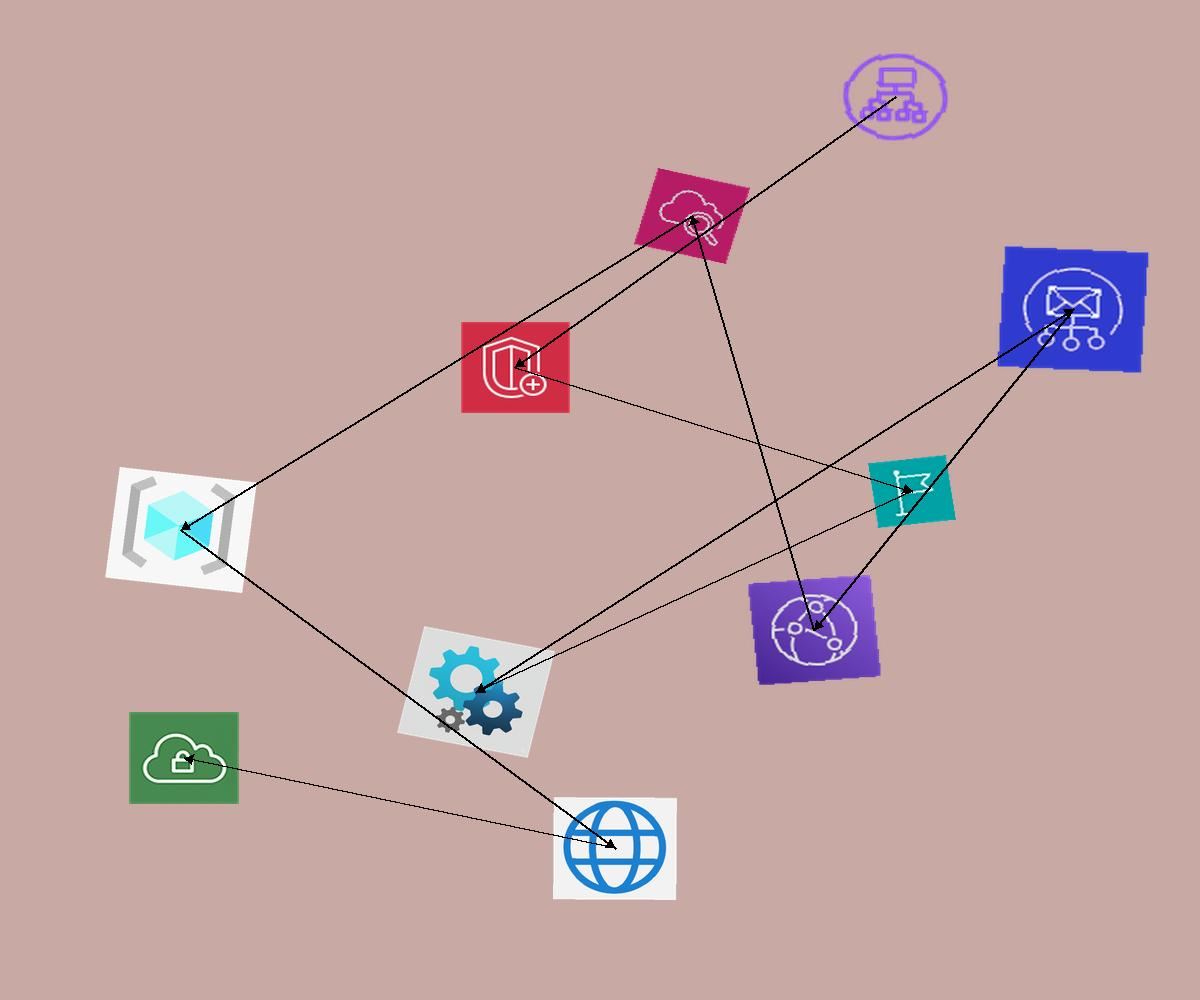AWS-CloudFront: (747, 574, 882, 686)
AWS-CloudWatch: (634, 168, 750, 264)
AWS-Private_vpc: (128, 711, 240, 805)
AWS-Region: (868, 455, 956, 528)
AWS-Res_Elastic-Load-Balancing_Application-Load-Balancer: (834, 46, 957, 148)
AWS-Shield: (460, 321, 571, 414)
AWS-Simple-Email-Service: (996, 245, 1150, 374)
Azure_api: (397, 626, 555, 758)
Azure_http: (553, 797, 677, 900)
Azure_resource_group: (105, 467, 257, 593)
